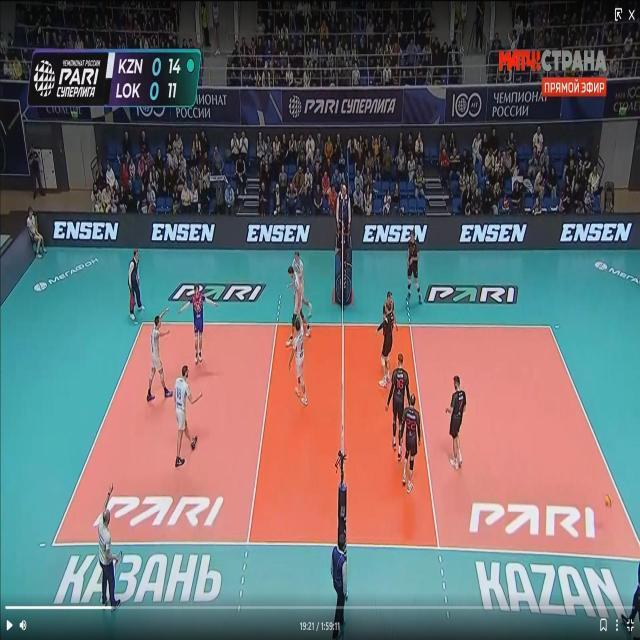volleyball: (604, 495, 614, 508)
